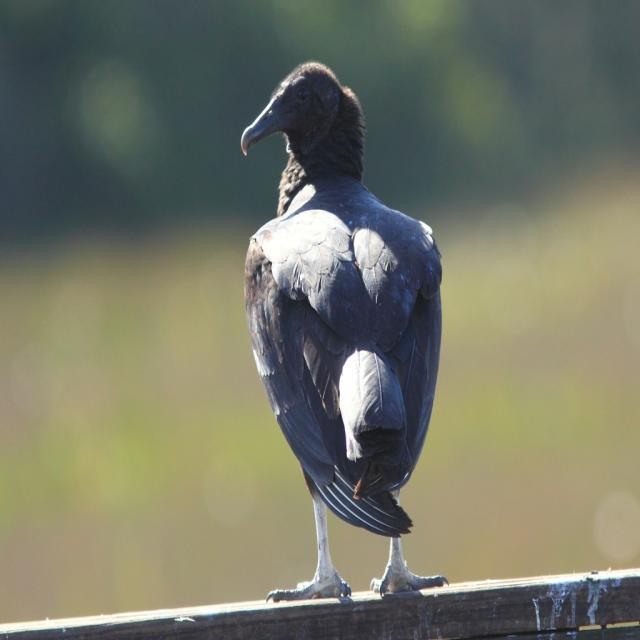bird: (232, 64, 477, 605)
